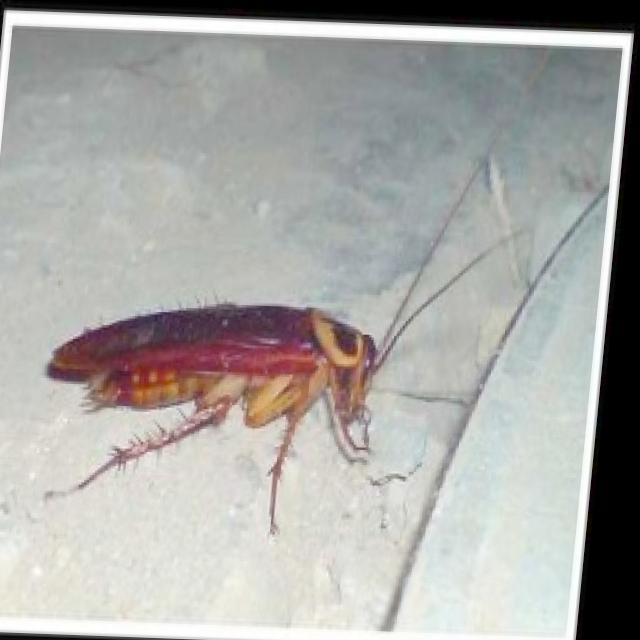cockroach: (44, 300, 380, 428)
